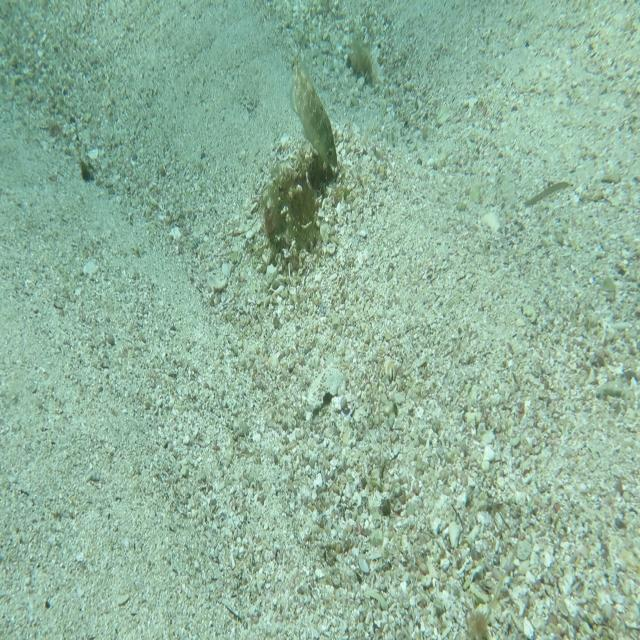NIP_IN: (288, 33, 341, 172)
core_nest: (295, 154, 330, 189)
nest: (257, 149, 337, 283)
vegetation: (347, 27, 374, 89), (82, 160, 94, 188)
